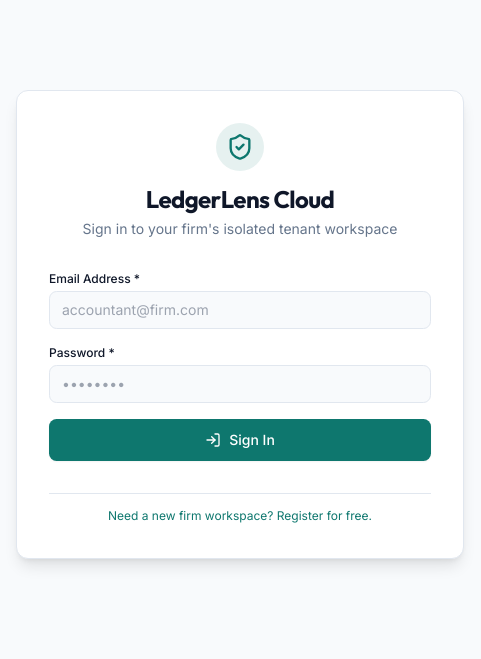
Test: Frontend Authentication & Tenant Context Verification › 2. Toggling to signup renders signup form with exact test IDs
Click the button "Need a new firm workspace? Register for free." at x=240, y=516, box [108,508,372,524]
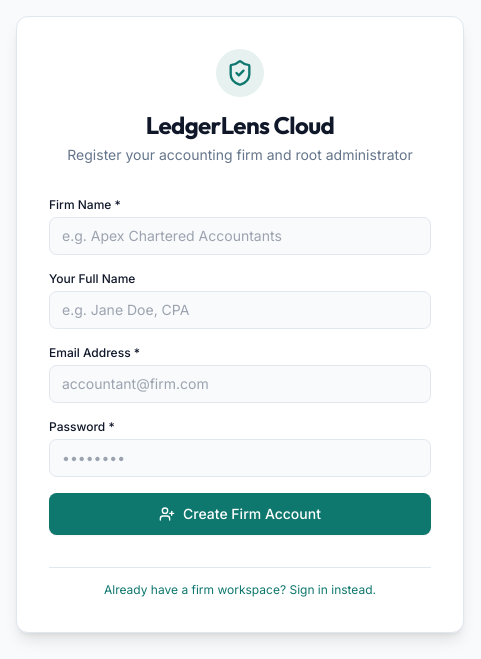
Expected: the field with test id "signup-email" is shown, [49,364,431,402]
Now the field with test id "signup-firm" is shown, box [49,216,431,254]
Now the field with test id "signup-name" is shown, box [49,290,431,328]
